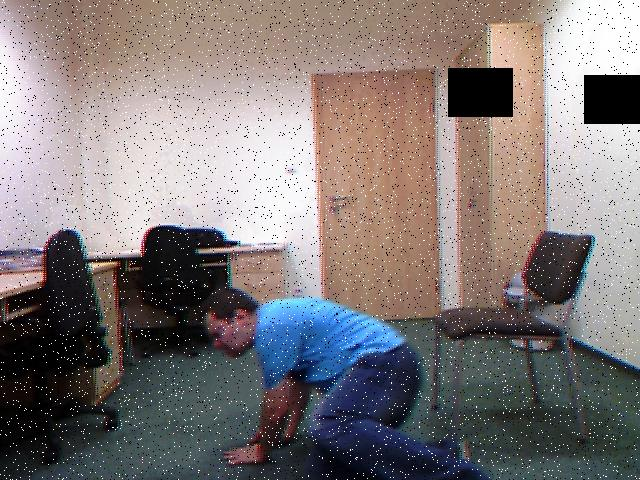fall: (188, 277, 490, 480)
